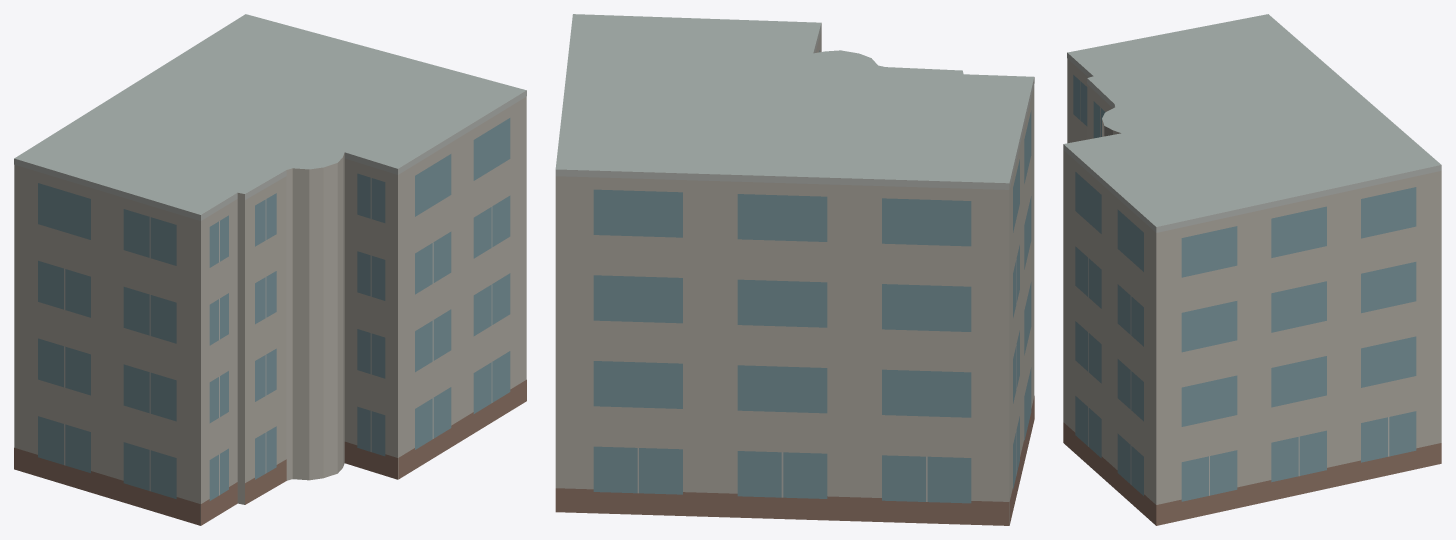
File: survey-upis-32744146.glb
3 views of the same model, side by side, from view 1: azimuth 30°, elevation 25°; view 2: azimuth 150°, elevation 25°; view 3: azimuth 270°, elevation 25° (orthographic). The views are drawn at different scales.
Parts seen in each view (by area): view 1: survey-upis-32744146.tmp; view 2: survey-upis-32744146.tmp; view 3: survey-upis-32744146.tmp.
Boxes of the visible parts, x1,y1,x2,y2 form: survey-upis-32744146.tmp: [14, 14, 526, 525]; survey-upis-32744146.tmp: [555, 14, 1034, 525]; survey-upis-32744146.tmp: [1063, 14, 1441, 525].
Bounding box in the file's own units: 19.05 × 12.45 × 14.3.
